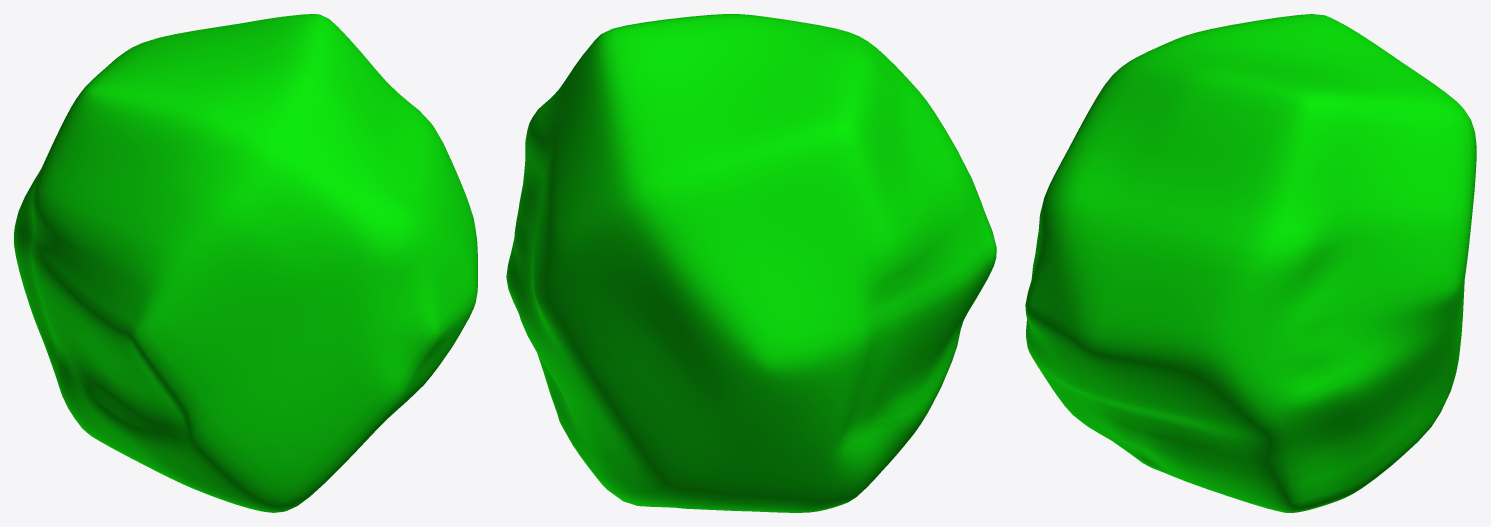
File: Game2Stone3.fbx
3 renders of one model, left to right at view 1: azimuth 30°, elevation 25°; view 2: azimuth 150°, elevation 25°; view 3: azimuth 270°, elevation 25°, orthographic. The views are drawn at different scales.
Parts seen in each view (by area): view 1: Stone3; view 2: Stone3; view 3: Stone3.
Boxes of the visible parts, box(x1,y1,x2,y2) form: Stone3: box(14, 14, 477, 512); Stone3: box(506, 14, 996, 512); Stone3: box(1025, 14, 1476, 512).
Bounding box in the file's own units: 3.45 × 3.49 × 3.42.
